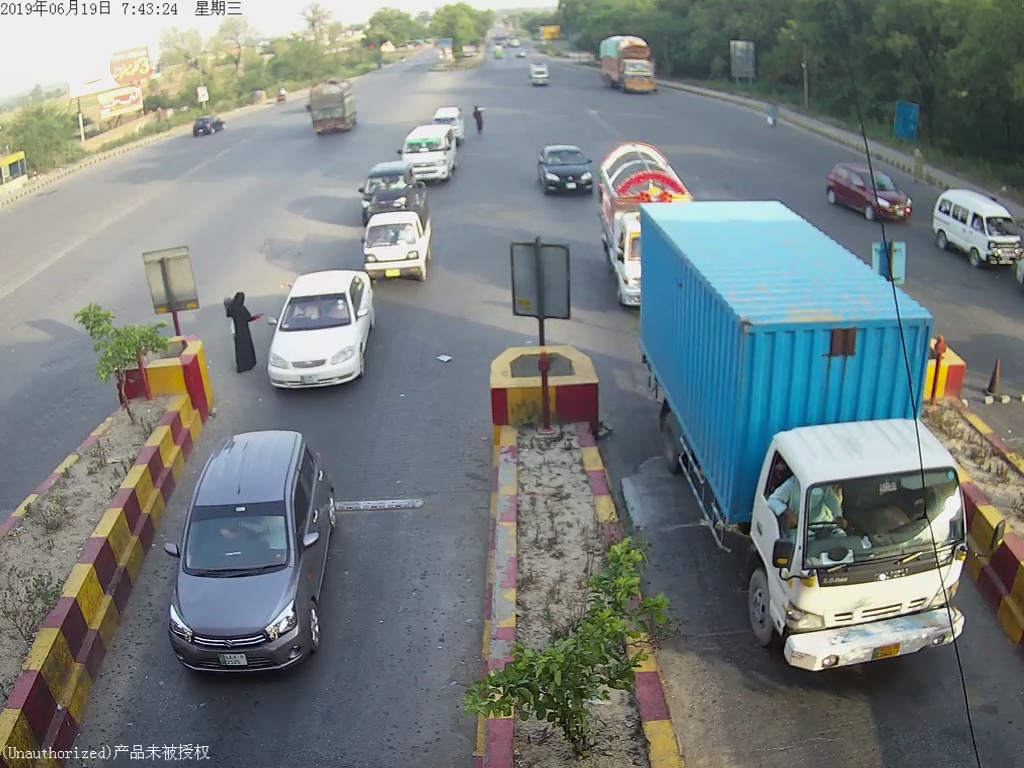Cat-1: (172, 454, 345, 671), (265, 278, 382, 385), (367, 195, 436, 283), (538, 142, 592, 203)
Cat-2: (645, 215, 980, 688)
